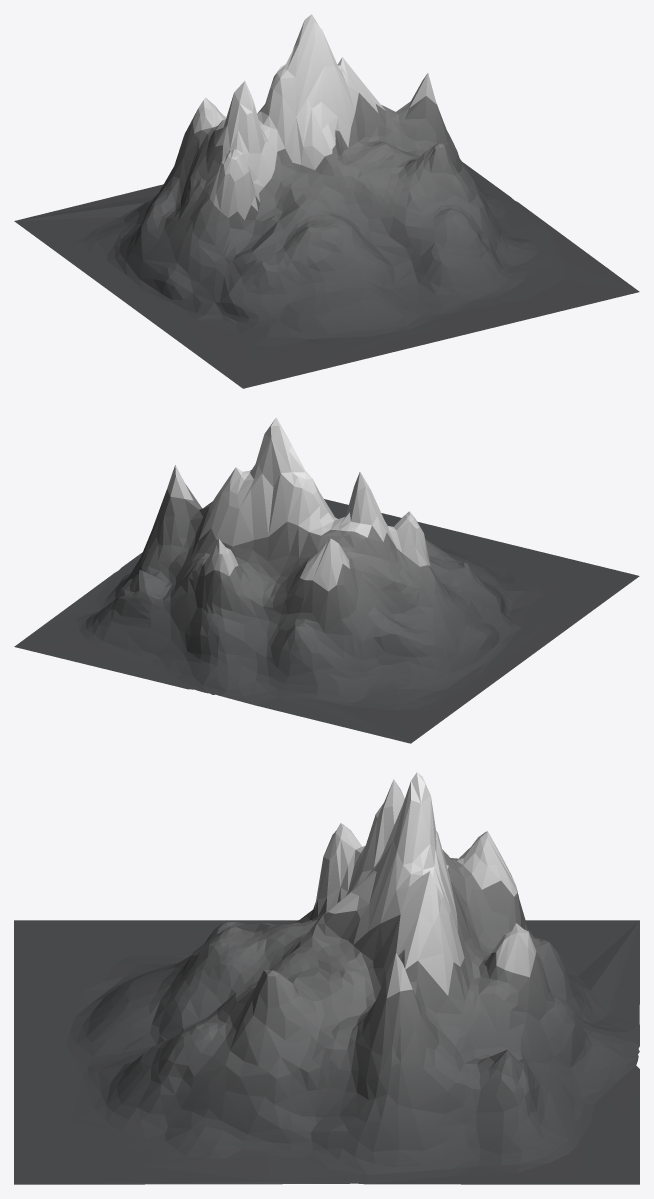
File: Mountains_06.fbx
The picture shows the model from 3 angles, top to bottom: view 1: azimuth 30°, elevation 25°; view 2: azimuth 150°, elevation 25°; view 3: azimuth 270°, elevation 25°; orthographic projection. The views are drawn at different scales.
Visible parts, largest first — view 1: Mountains_06; view 2: Mountains_06; view 3: Mountains_06.
Part boxes in pixels (bbox=[...]): Mountains_06: bbox=[14, 14, 639, 388]; Mountains_06: bbox=[14, 417, 639, 743]; Mountains_06: bbox=[14, 772, 639, 1184].
Size of the model in its own units: 26475 by 13693 by 26481.
